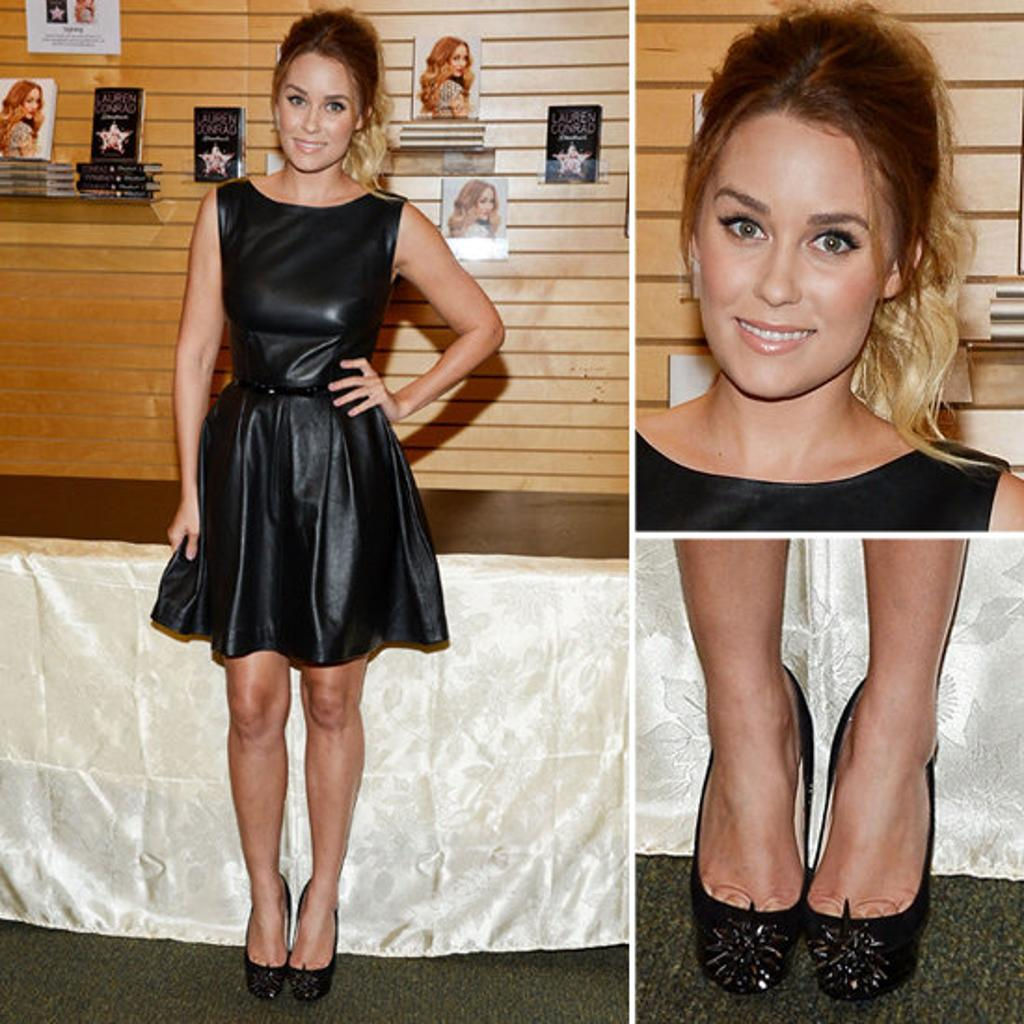face: (696, 125, 896, 398), (277, 61, 358, 170), (447, 47, 467, 76), (474, 192, 493, 221), (20, 92, 39, 118)
